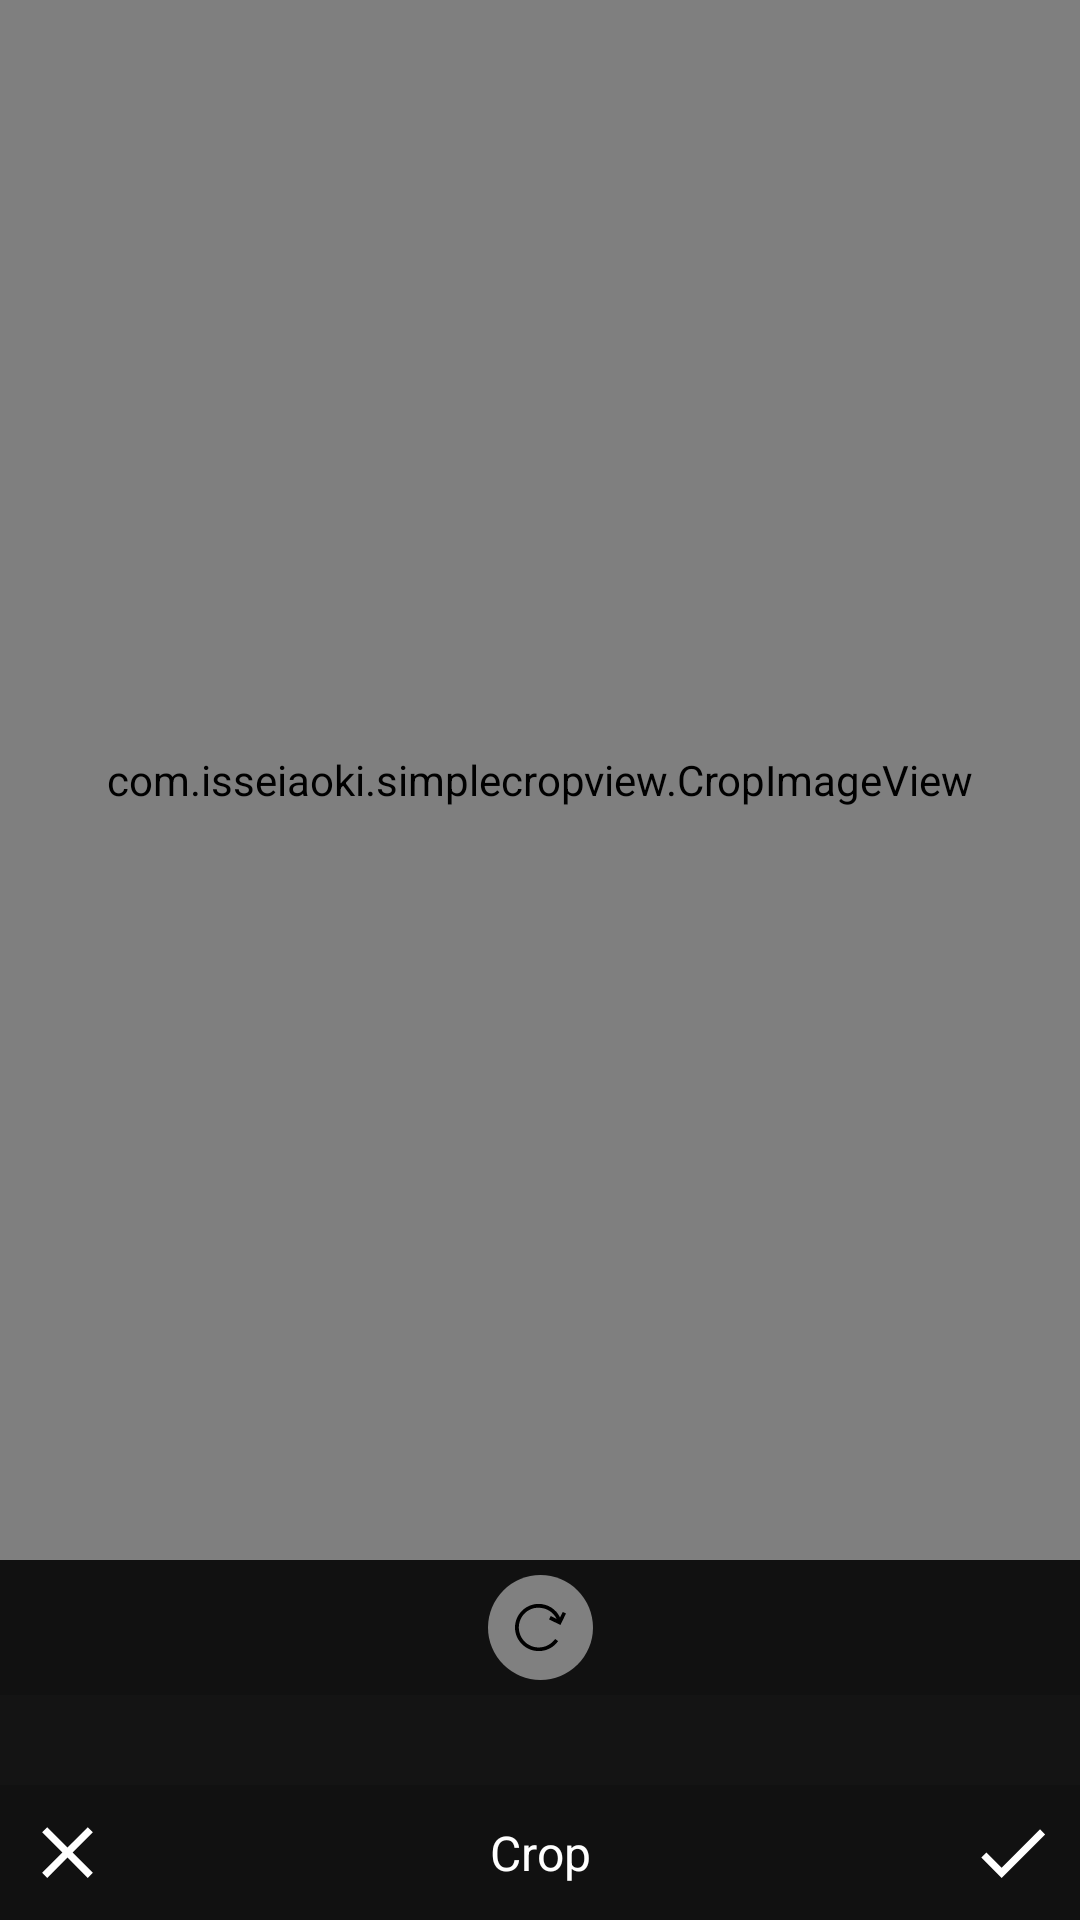

Icons on this 1080*1920 Android screen, each with the point to tap as (x,y):
close: (67,1852)
done: (1013,1853)
rotate: (540,1627)
